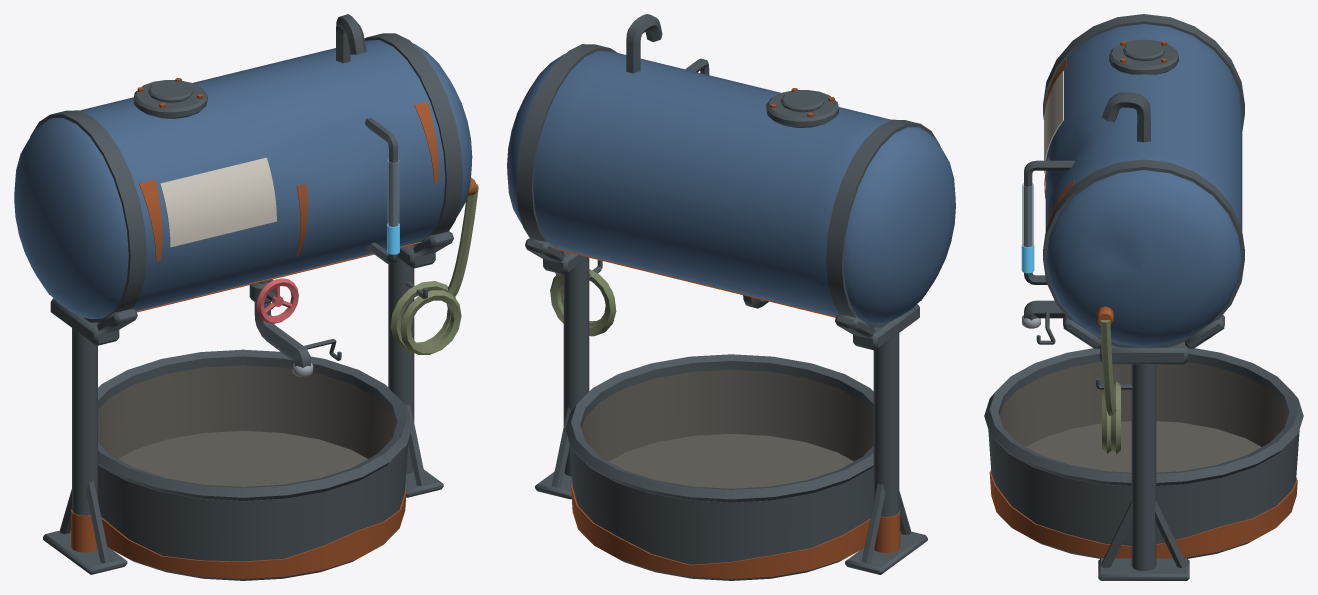
Rendered from water_tank.glb.
The picture shows the model from 3 angles, left to right: view 1: azimuth 30°, elevation 25°; view 2: azimuth 150°, elevation 25°; view 3: azimuth 270°, elevation 25°; orthographic projection. The views are drawn at different scales.
Visible parts, largest first — view 1: Tank; view 2: Tank; view 3: Tank.
Boxes of the visible parts, left/top/right/bottom form: Tank: left=14, top=14, right=478, bottom=580; Tank: left=507, top=14, right=955, bottom=580; Tank: left=984, top=14, right=1303, bottom=580.
Bounding box in the file's own units: 2.59 × 2.84 × 1.82.
